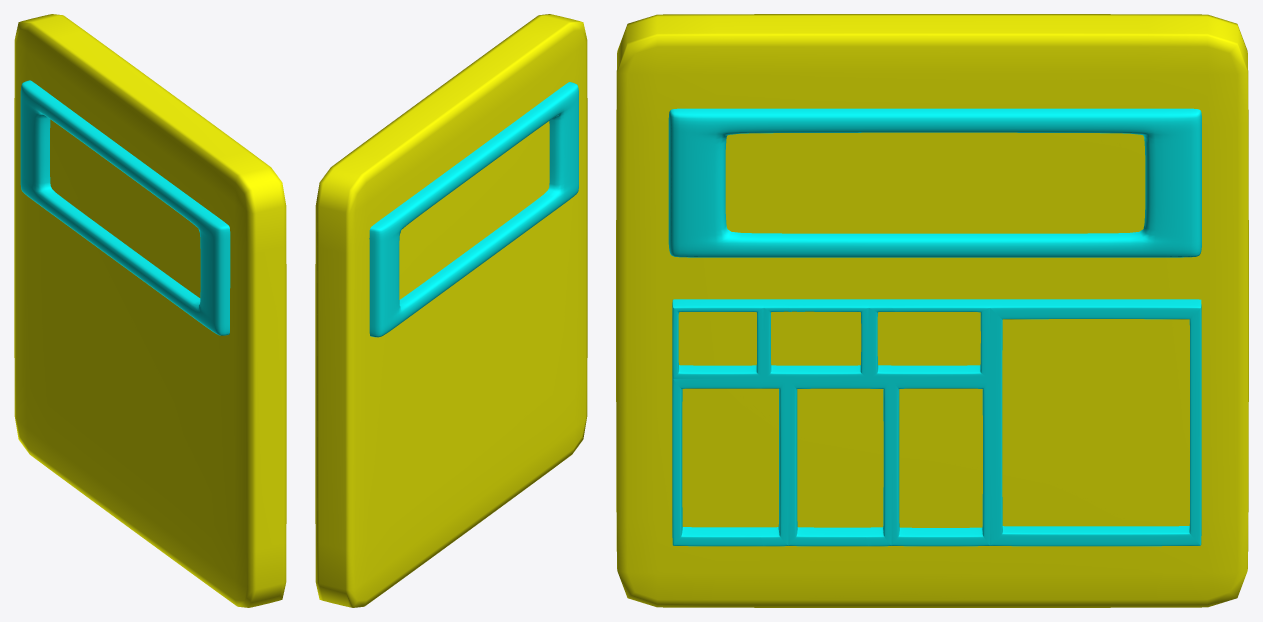
3 renders of one model, left to right at view 1: azimuth 30°, elevation 25°; view 2: azimuth 150°, elevation 25°; view 3: azimuth 270°, elevation 25°, orthographic. The views are drawn at different scales.
Parts seen in each view (by area): view 1: polySurface915; view 2: polySurface915; view 3: polySurface915.
Boxes of the visible parts, <box> form: polySurface915: <box>14,14,286,607</box>; polySurface915: <box>315,14,587,607</box>; polySurface915: <box>616,14,1248,607</box>.
Size of the model in its own units: 0.155 by 0.9994 by 0.9994.
